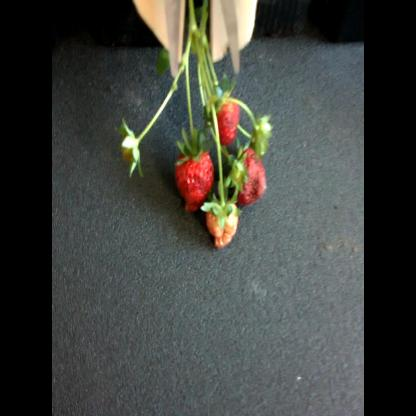ripe: (172, 149, 214, 204), (231, 147, 272, 203), (211, 95, 244, 144)
unripe: (206, 199, 244, 247)
